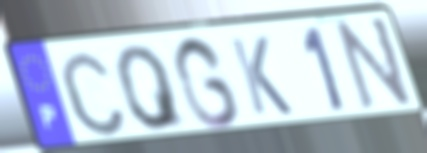1: (299, 24, 348, 115)
C: (56, 48, 131, 139)
G: (169, 33, 244, 131)
K: (226, 34, 297, 118)
N: (334, 14, 416, 114)
Q: (112, 42, 190, 133)
